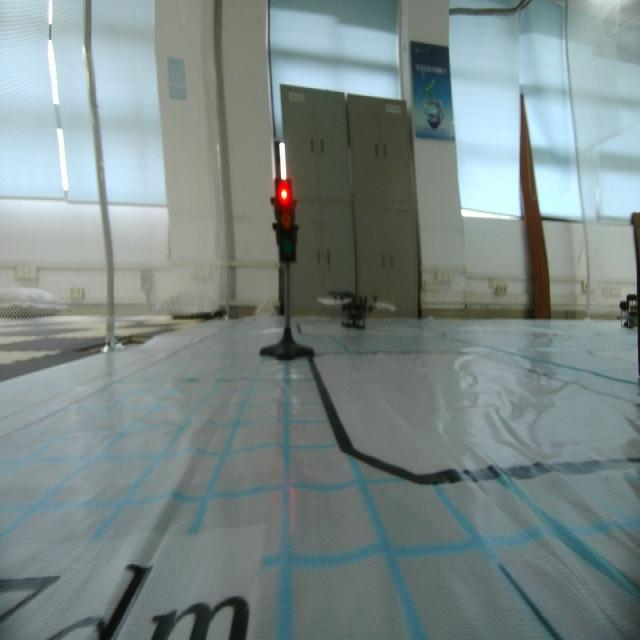red: (270, 175, 300, 272)
